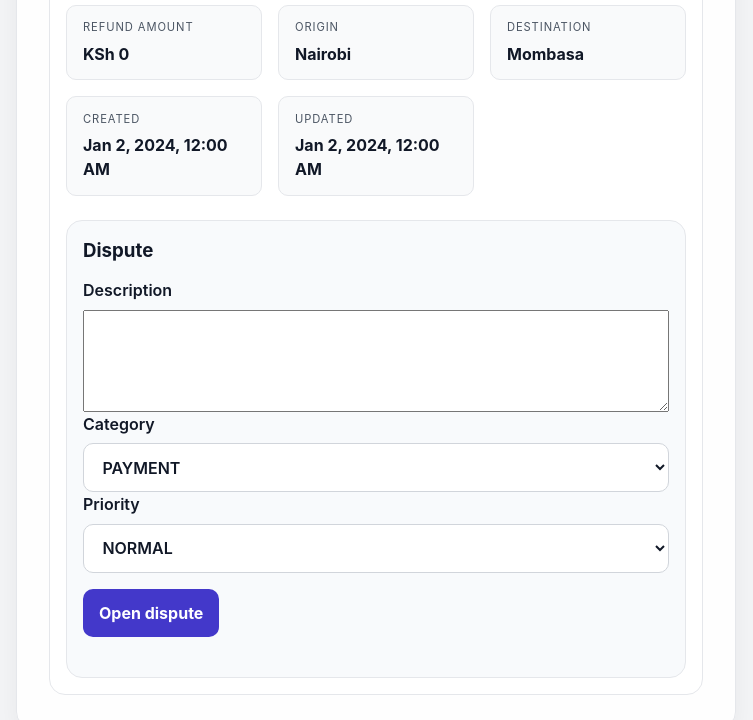
customer foundation workflow › opens a dispute and shows dispute details
The image size is (753, 720).
(page scrolled)
Expected: the button "Open dispute" is shown, [83,589,219,637]
Type "Driver arrived late" into the text box labelled "Description" at (376,361), box [83,310,669,412]
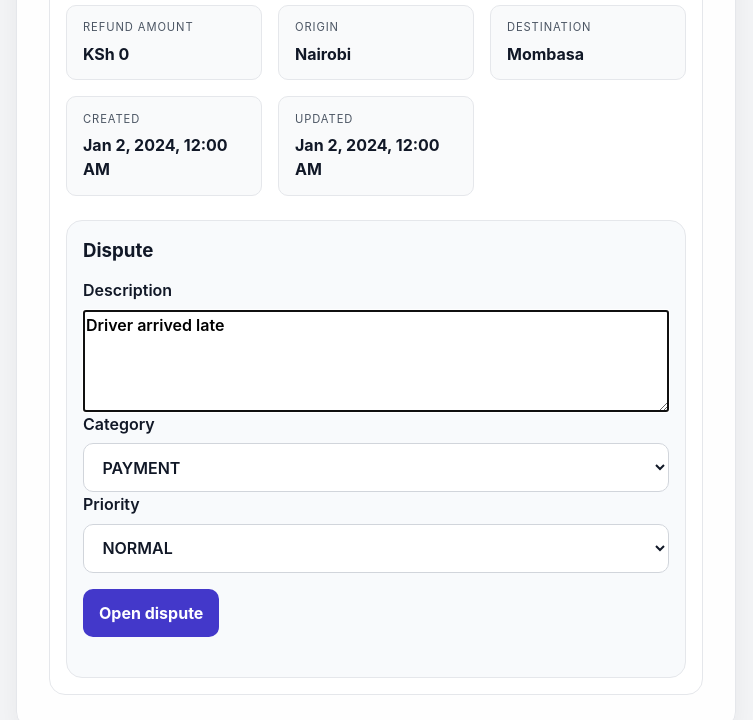
Click the button "Open dispute" at (151,613), box [83,589,219,637]
(page scrolled)
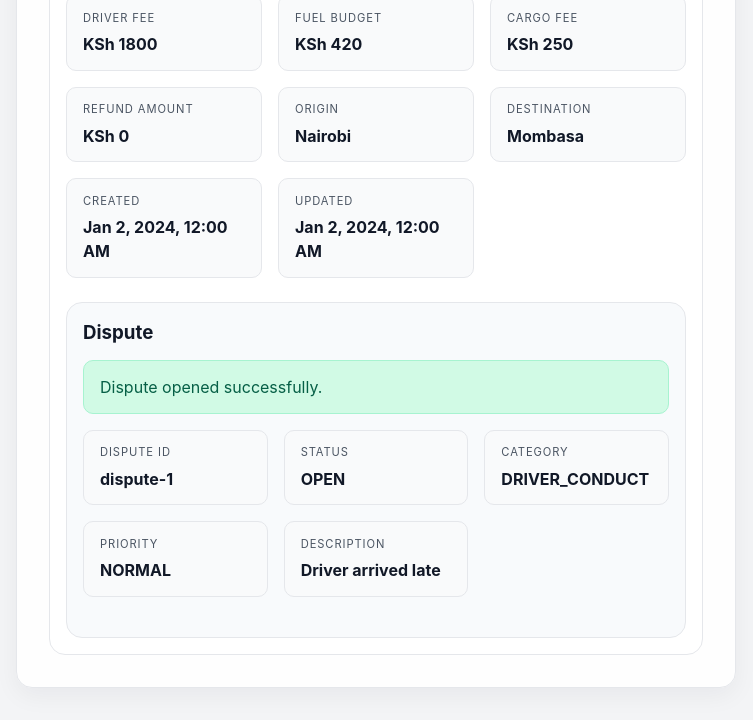
Result: the text "Dispute opened successfully." is shown at [83,360,669,414]
Result: the text "dispute-1" is shown at [100,469,173,489]
Result: the text "OPEN" is shown at [301,469,345,489]
